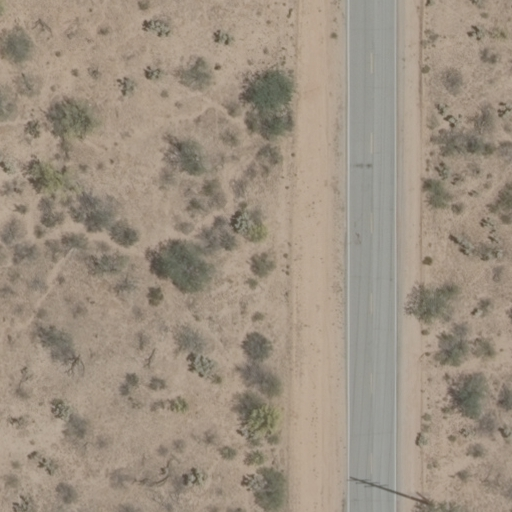DT: (406, 491, 436, 510)
